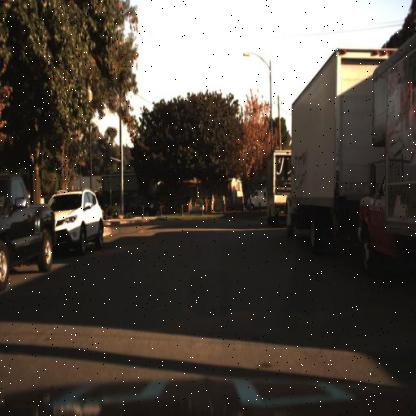car: (0, 172, 55, 288), (55, 184, 115, 258), (44, 186, 104, 252), (265, 146, 291, 234), (136, 198, 172, 221), (244, 184, 269, 209), (246, 188, 264, 212)
truck: (284, 43, 389, 249), (282, 61, 356, 261), (264, 143, 288, 220)
